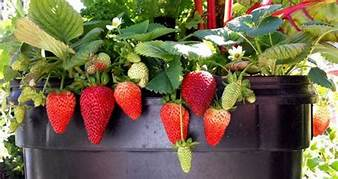Fresa: (77, 78, 119, 149), (178, 66, 219, 117), (42, 85, 80, 137), (157, 96, 194, 146), (111, 76, 148, 123), (202, 102, 233, 148)
